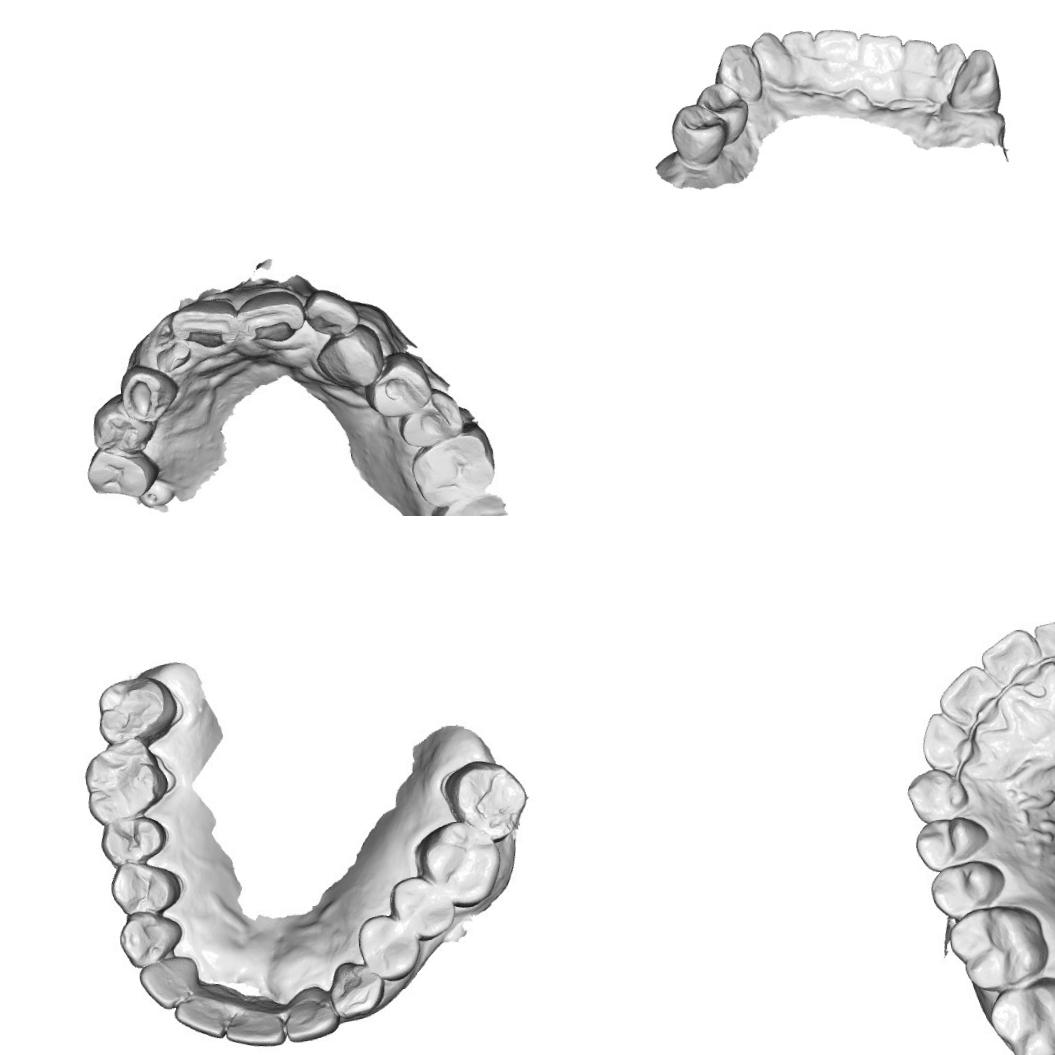canine: (115, 903, 189, 969), (943, 43, 1003, 116), (316, 328, 384, 389), (325, 952, 383, 1022), (904, 765, 968, 824), (710, 41, 764, 106), (121, 368, 176, 418)
incisor: (977, 626, 1039, 690), (232, 288, 300, 338), (810, 23, 863, 86), (939, 665, 996, 722), (748, 28, 798, 92), (224, 999, 285, 1050), (920, 710, 974, 766), (170, 300, 234, 346), (139, 957, 198, 1006), (174, 989, 231, 1039), (856, 28, 905, 86), (306, 288, 355, 340), (283, 989, 336, 1037), (928, 38, 970, 98), (778, 26, 819, 84), (898, 35, 938, 90), (1033, 615, 1055, 667)
molar: (945, 904, 1047, 992), (78, 739, 174, 826), (417, 822, 500, 902), (444, 760, 526, 834), (412, 433, 494, 506), (984, 976, 1055, 1055), (93, 678, 165, 738), (84, 444, 154, 501), (90, 399, 153, 455), (399, 394, 460, 444)
premolar: (666, 98, 730, 168), (929, 863, 1006, 918), (692, 78, 751, 148), (368, 356, 432, 418), (358, 915, 418, 978), (111, 860, 176, 916), (916, 816, 986, 868), (394, 878, 454, 936), (100, 816, 162, 864)
